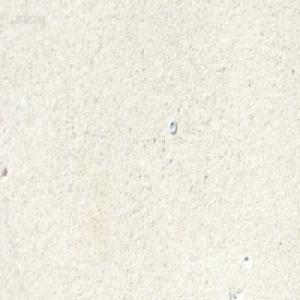Washer: (169, 119, 176, 134)
